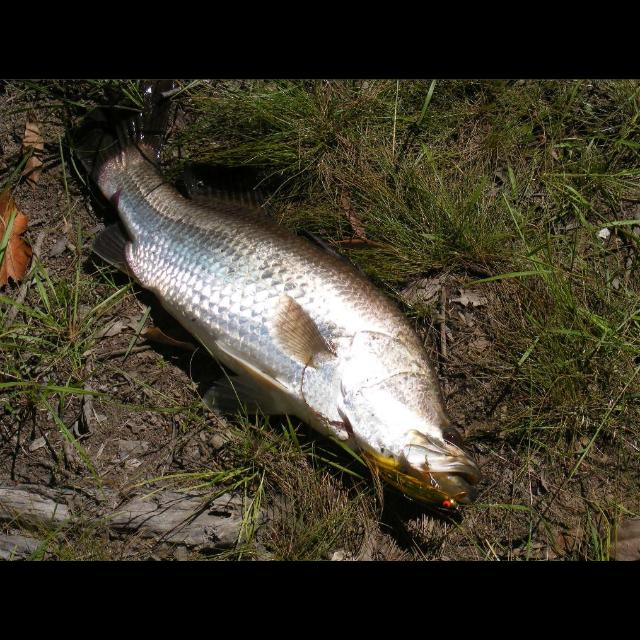Seabass: (66, 86, 482, 507)
